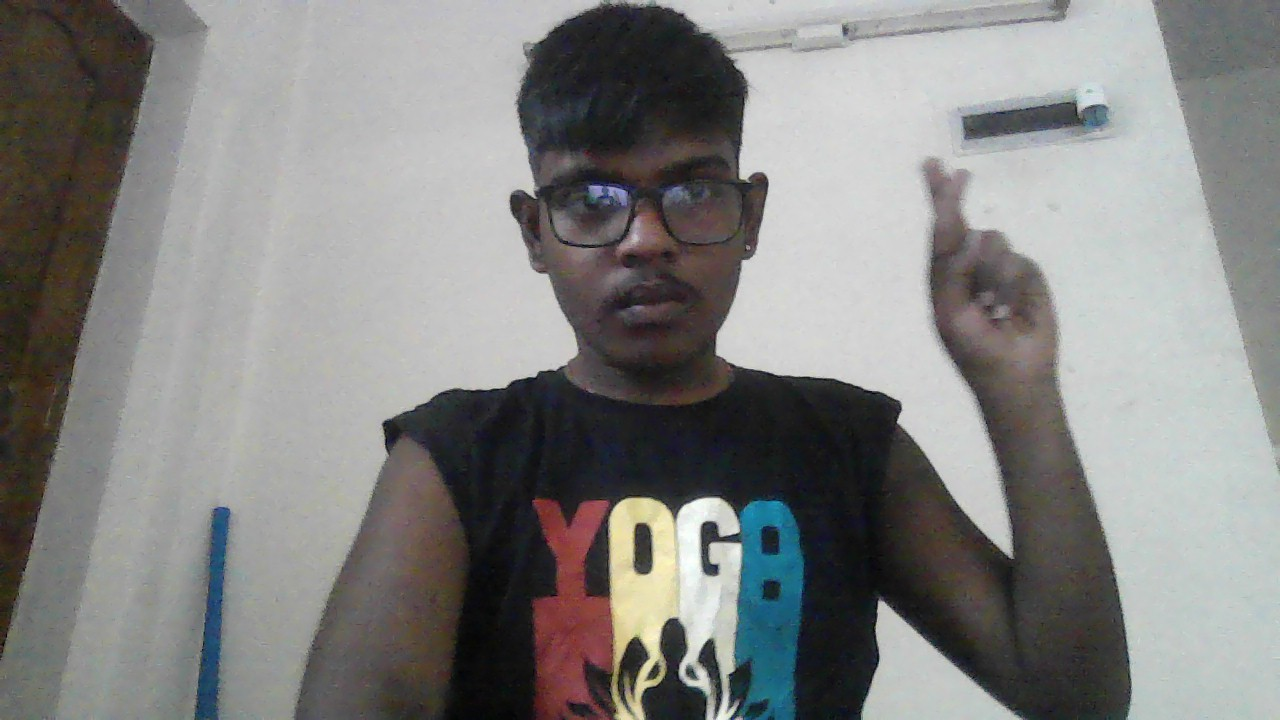R: (923, 156, 1061, 384)
